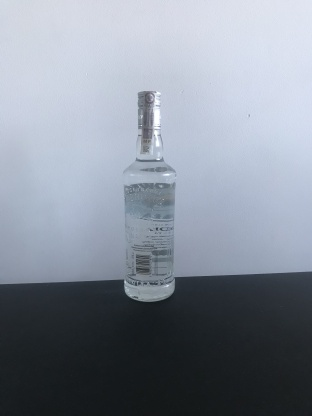nakretka: (135, 88, 163, 133)
